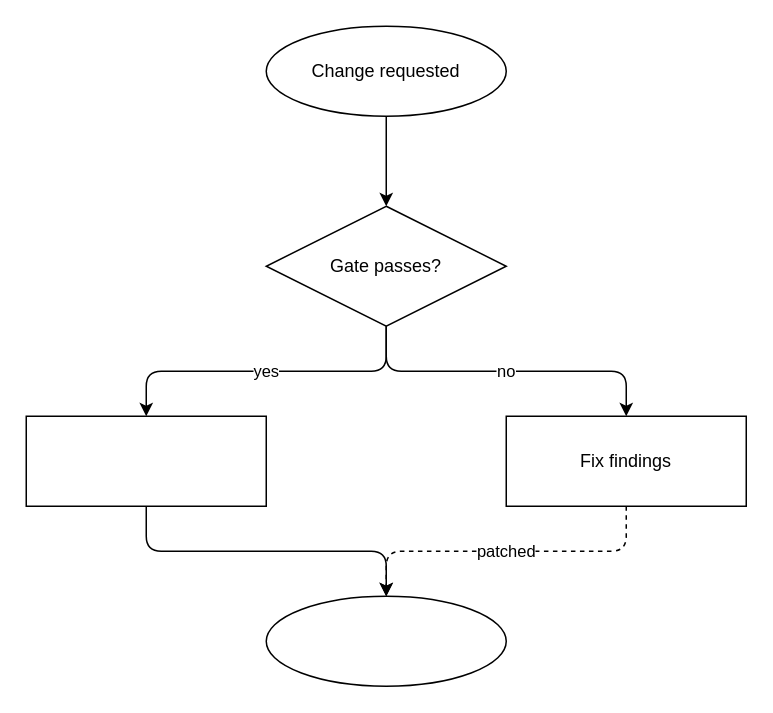
Some shapes in this 773 by 713 pixel diagram are drawn without their labels. Here are the shapes that lost their labels. From the top down, the centre of each, then its label:
At [145,460]: "Ship release".
At [385,640]: "Gate closed".
